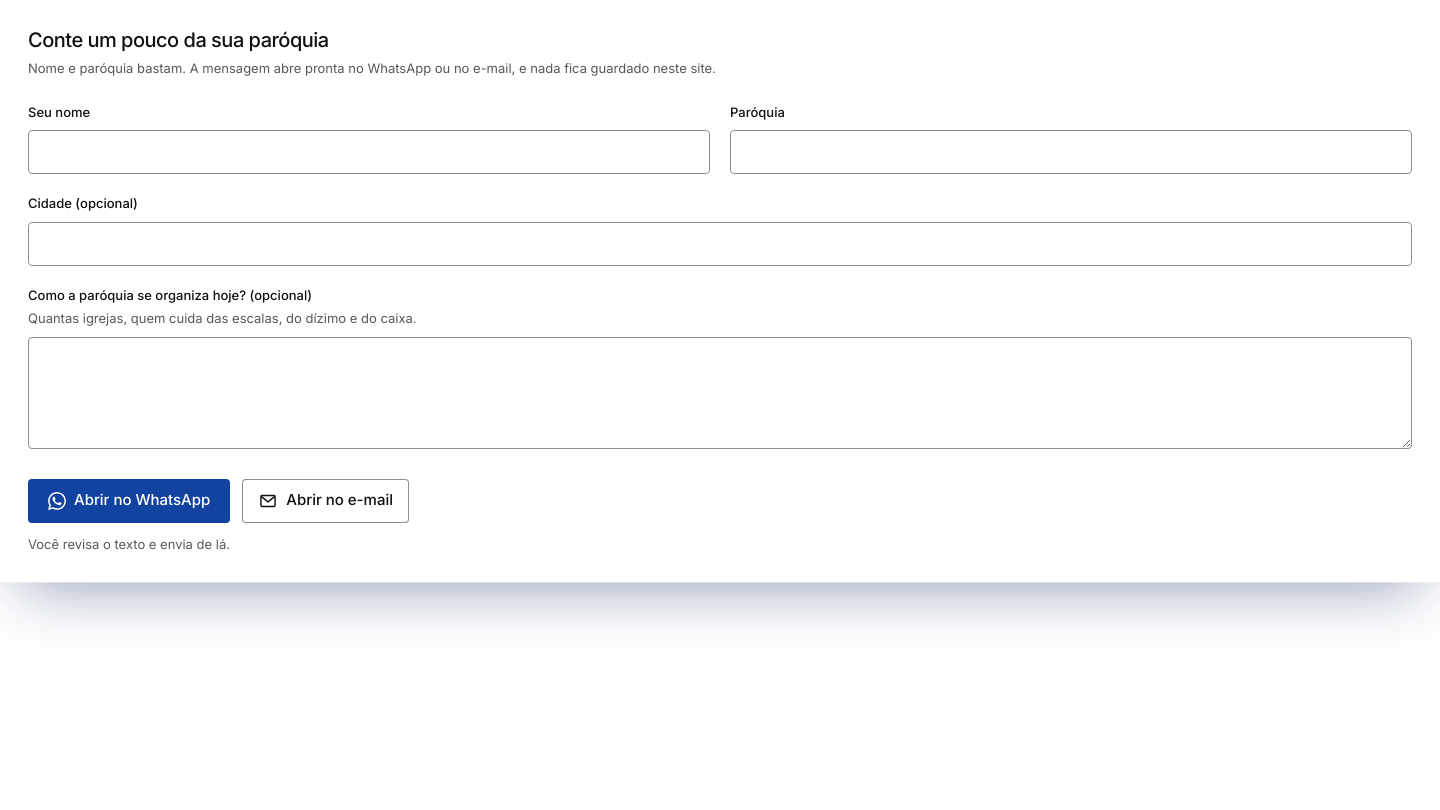
Test case: FormularioConversa › conta os caracteres da mensagem e não passa do limite
The image size is (1440, 810).
Type "Somos 3 igrejas." into the text box labelled "Como a paróquia se organiza hoje? (opcional)" at (720, 392), box [28,336,1412,448]
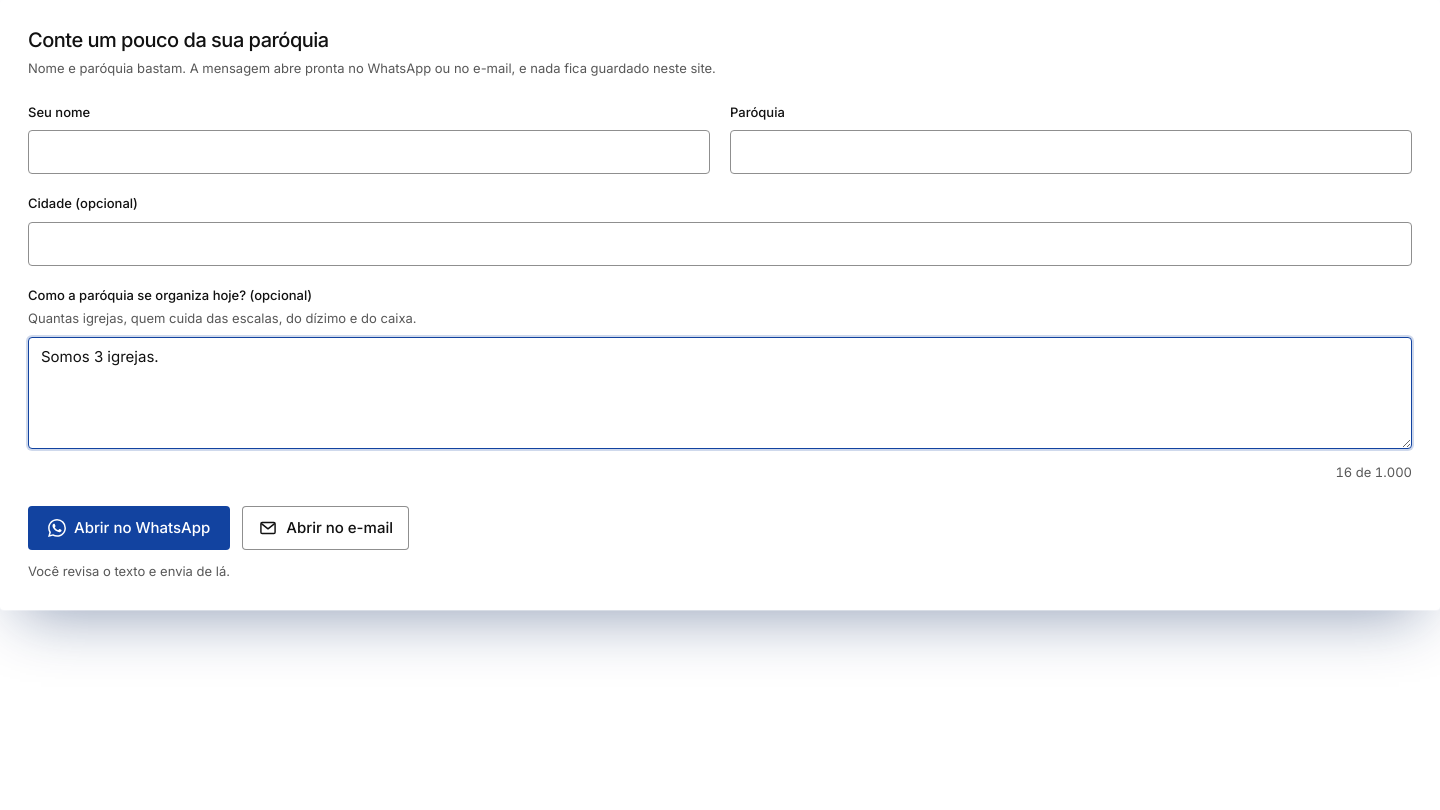
Expected: the text "16 de 1.000" is shown, [1335,462,1412,482]
